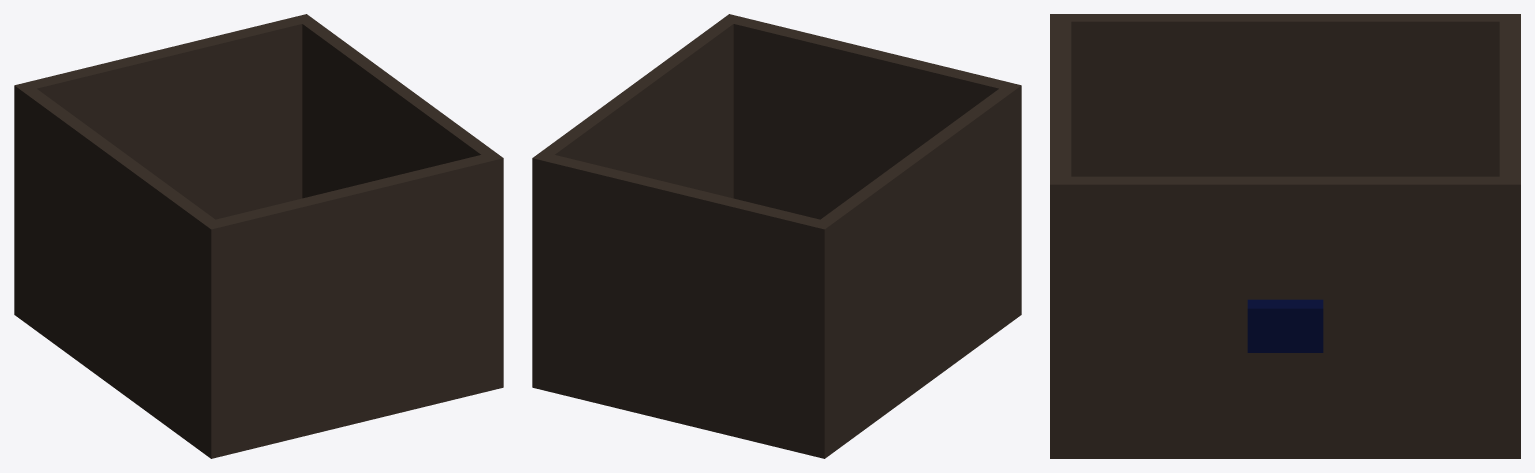
The model's file is schublade.wandregal.glb.
3 views of the same model, side by side, from view 1: azimuth 30°, elevation 25°; view 2: azimuth 150°, elevation 25°; view 3: azimuth 270°, elevation 25° (orthographic). The views are drawn at different scales.
Parts seen in each view (by area): view 1: Cube.001; view 2: Cube.001; view 3: Cube.001.
Part boxes in pixels (bbox=[...]): Cube.001: bbox=[14, 14, 503, 458]; Cube.001: bbox=[532, 14, 1021, 458]; Cube.001: bbox=[1050, 14, 1520, 458].
Bounding box in the file's own units: 1.26 × 0.9 × 1.4.
